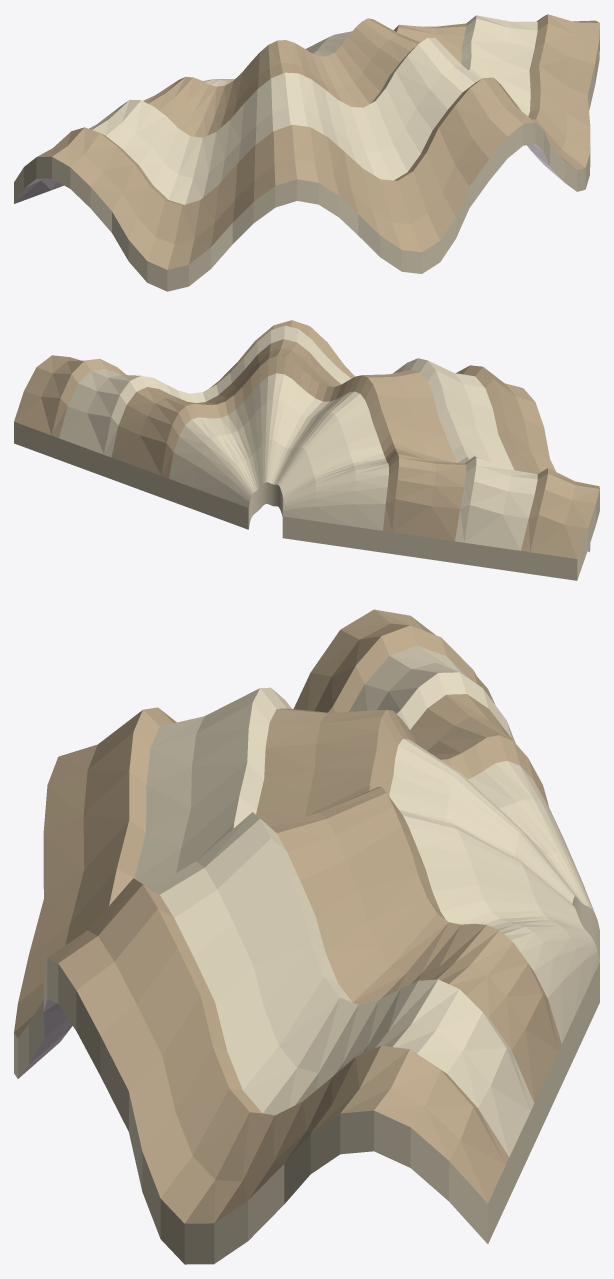
The model's file is ClamLid.obj.
3 renders of one model, top to bottom at view 1: azimuth 30°, elevation 25°; view 2: azimuth 150°, elevation 25°; view 3: azimuth 270°, elevation 25°, orthographic. The views are drawn at different scales.
Parts seen in each view (by area): view 1: ClamLid; view 2: ClamLid; view 3: ClamLid.
Part boxes in pixels (box(x1,y1,x2,y2)): ClamLid: box(14, 14, 599, 291); ClamLid: box(14, 320, 599, 580); ClamLid: box(14, 609, 599, 1264).
Bounding box in the file's own units: 0.7052 × 0.2053 × 0.3387.
